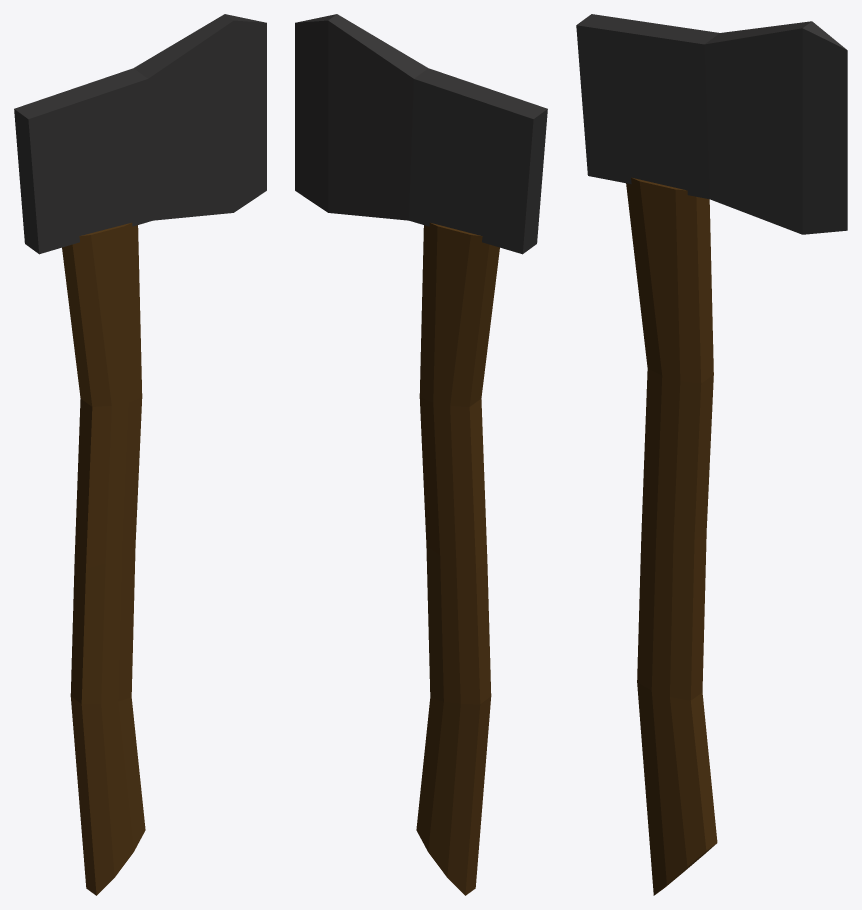
Rendered from axe.glb.
3 views of the same model, side by side, from view 1: azimuth 30°, elevation 25°; view 2: azimuth 150°, elevation 25°; view 3: azimuth 330°, elevation 25° (orthographic). The views are drawn at different scales.
Parts seen in each view (by area): view 1: axe; view 2: axe; view 3: axe.
Boxes of the visible parts, box(x1,y1,x2,y2) form: axe: box(14, 14, 266, 895); axe: box(295, 14, 547, 895); axe: box(576, 14, 847, 895).
Size of the model in its own units: 0.3118 by 1.02 by 0.0395.
